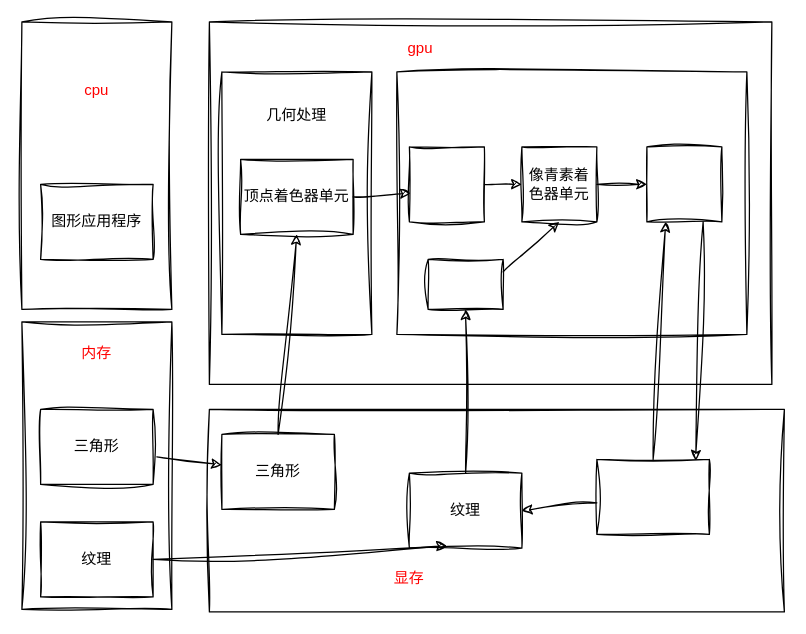
This 806x634 diagram has some shape labels left out. Here are the shapes that lost their labels. From the top down, the centre of each, then its label:
At (446,184): "光栅生成器".
At (684,184): "光栅操作单元".
At (465,283): "纹理单元".
At (652,496): "帧缓冲器".
